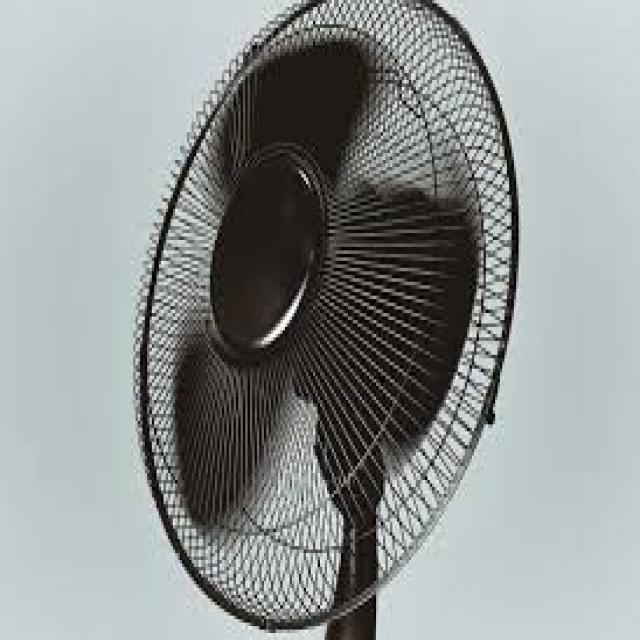fan: (70, 0, 551, 640)
